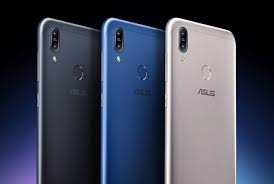asus: (165, 12, 240, 184), (96, 13, 166, 184), (31, 14, 101, 184)
